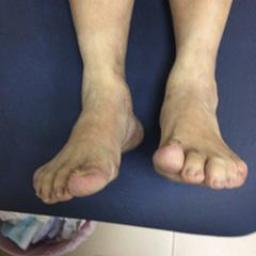Front View -Both Feet-: (26, 41, 250, 225)
